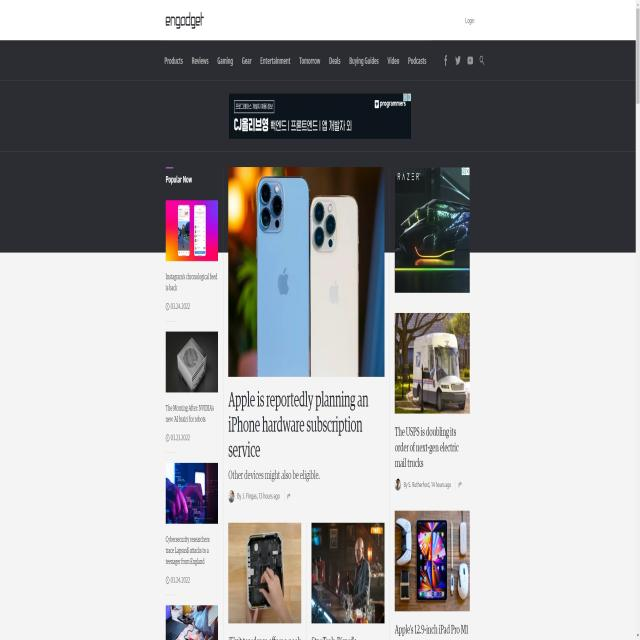menu-bar: (156, 42, 487, 77)
